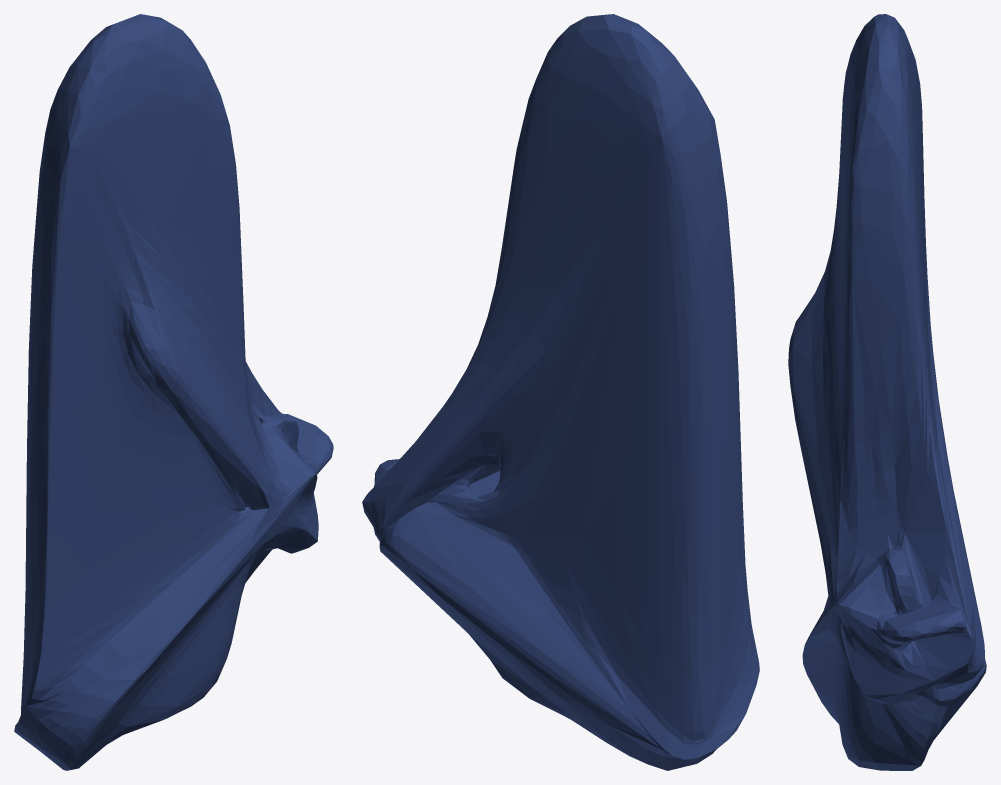
3 renders of one model, left to right at view 1: azimuth 30°, elevation 25°; view 2: azimuth 150°, elevation 25°; view 3: azimuth 270°, elevation 25°, orthographic. The views are drawn at different scales.
Visible parts, largest first — view 1: 533_Cube.2150; view 2: 533_Cube.2150; view 3: 533_Cube.2150.
Boxes of the visible parts, x1=… form: 533_Cube.2150: x1=14, y1=14, x2=333, y2=770; 533_Cube.2150: x1=362, y1=14, x2=759, y2=770; 533_Cube.2150: x1=788, y1=14, x2=986, y2=770.
Size of the model in its own units: 5.83 by 12.2 by 2.85.
